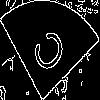C: (25, 25, 68, 83)
